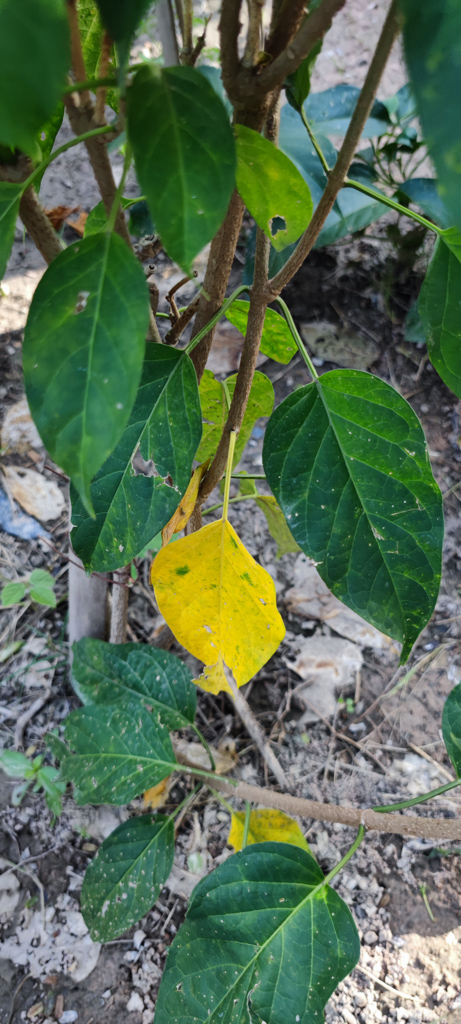Pepper yellow leaf: (159, 520, 294, 702), (220, 799, 303, 854)
